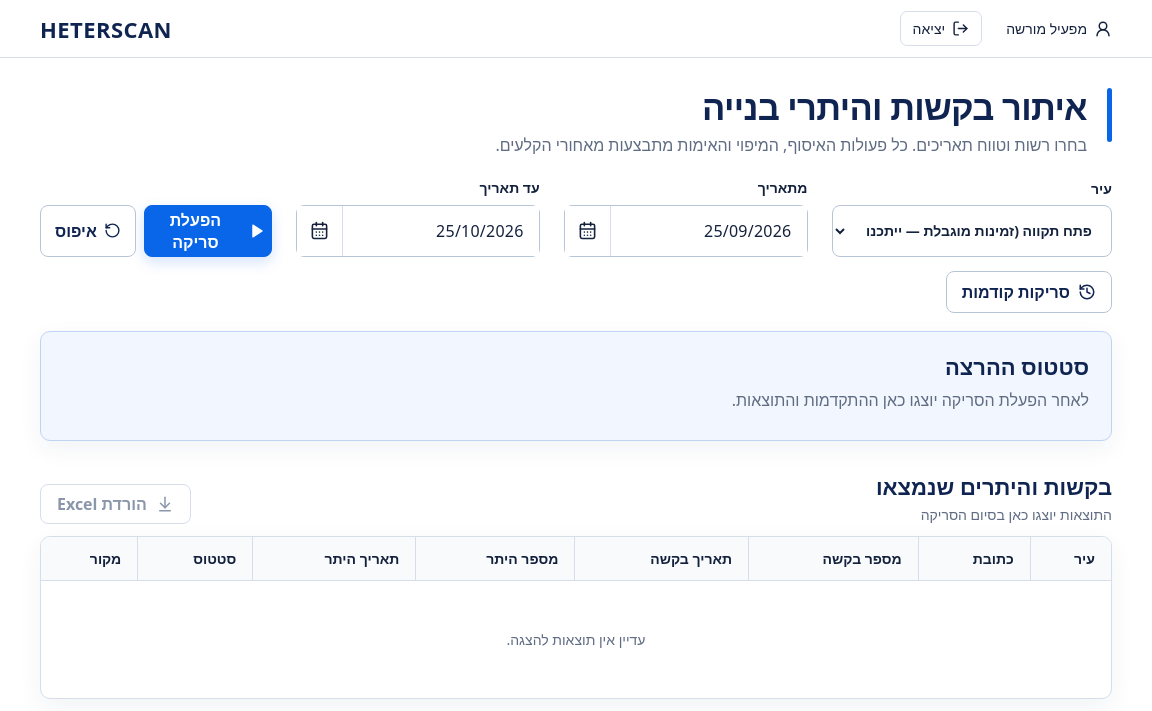
Test: waits for the partial report even if cancellation happened before worker startup
This screenshot has width=1152, height=711.
Click the button "הפעלת סריקה" at (208, 231), box [144,205,272,257]
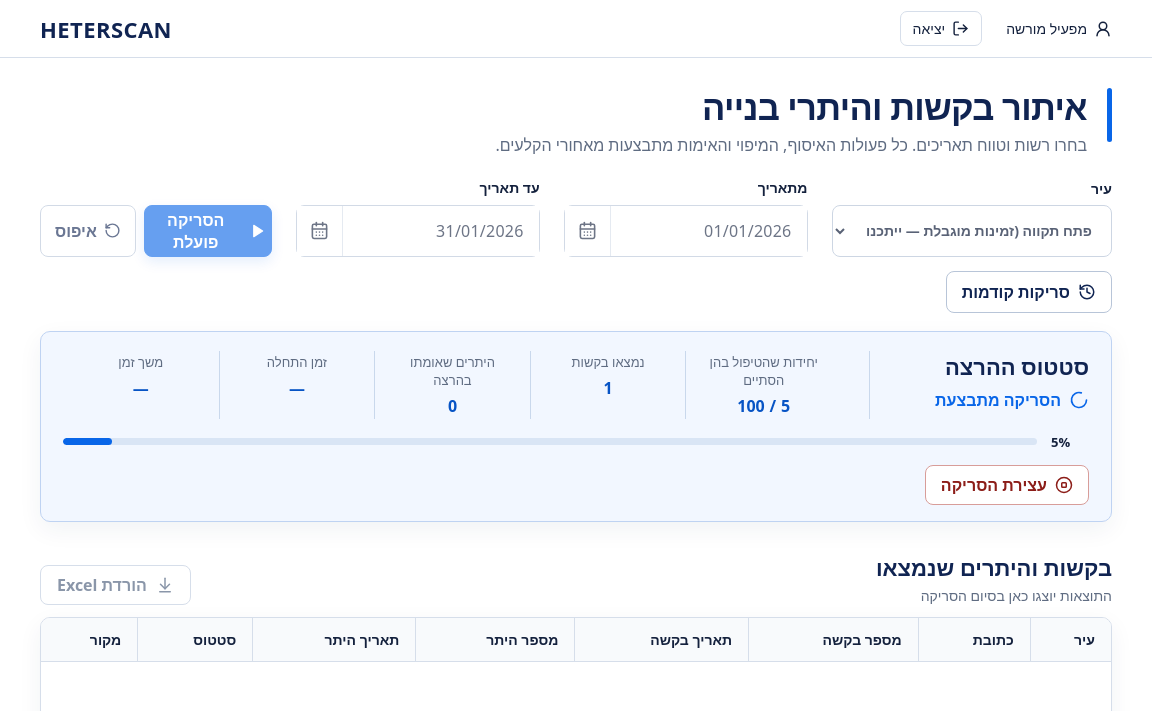
Click the button "עצירת הסריקה" at (1007, 485), box [925,465,1089,505]
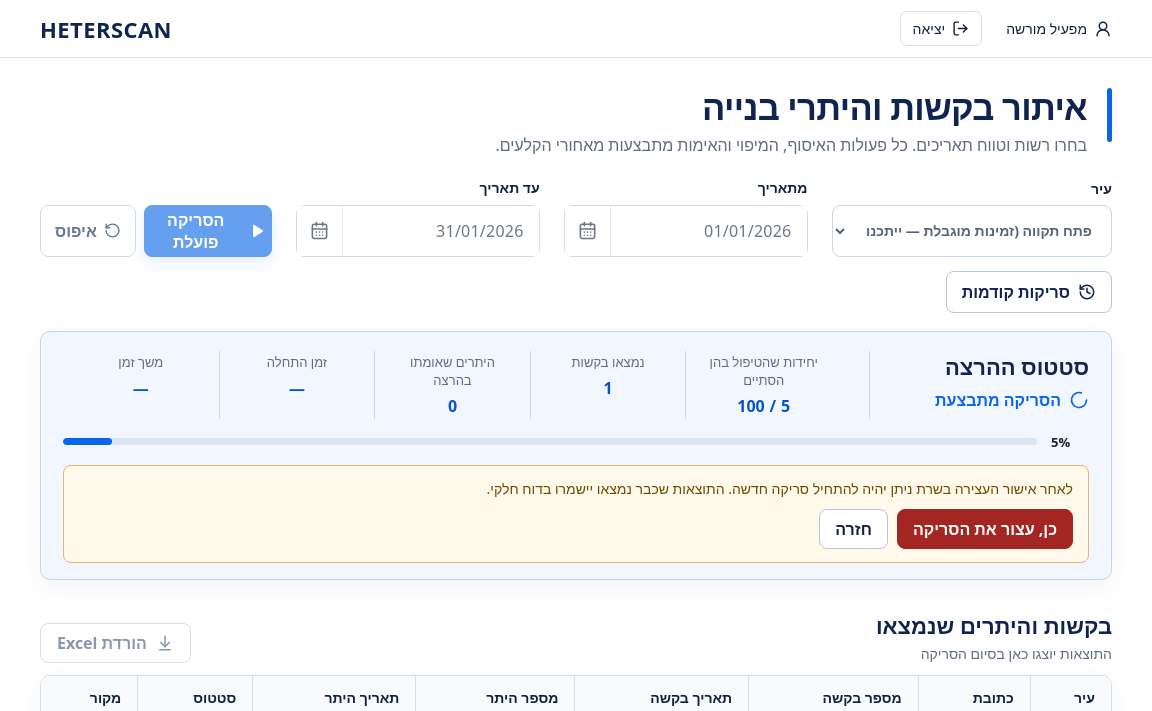
Click the button "כן, עצור את הסריקה" at (985, 529), box [897,509,1073,549]
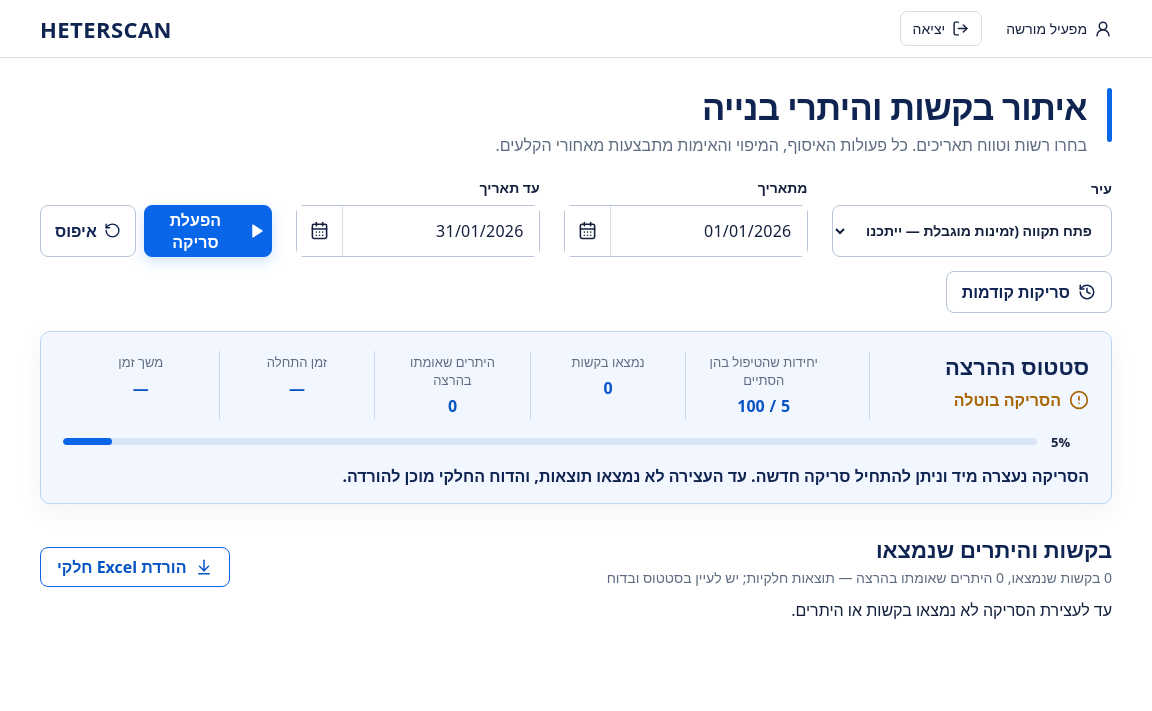
Expected: the text "הסריקה בוטלה" is shown, [954,389,1089,411]
Expected: the button "הורדת Excel חלקי" is enabled, [40,547,230,587]
